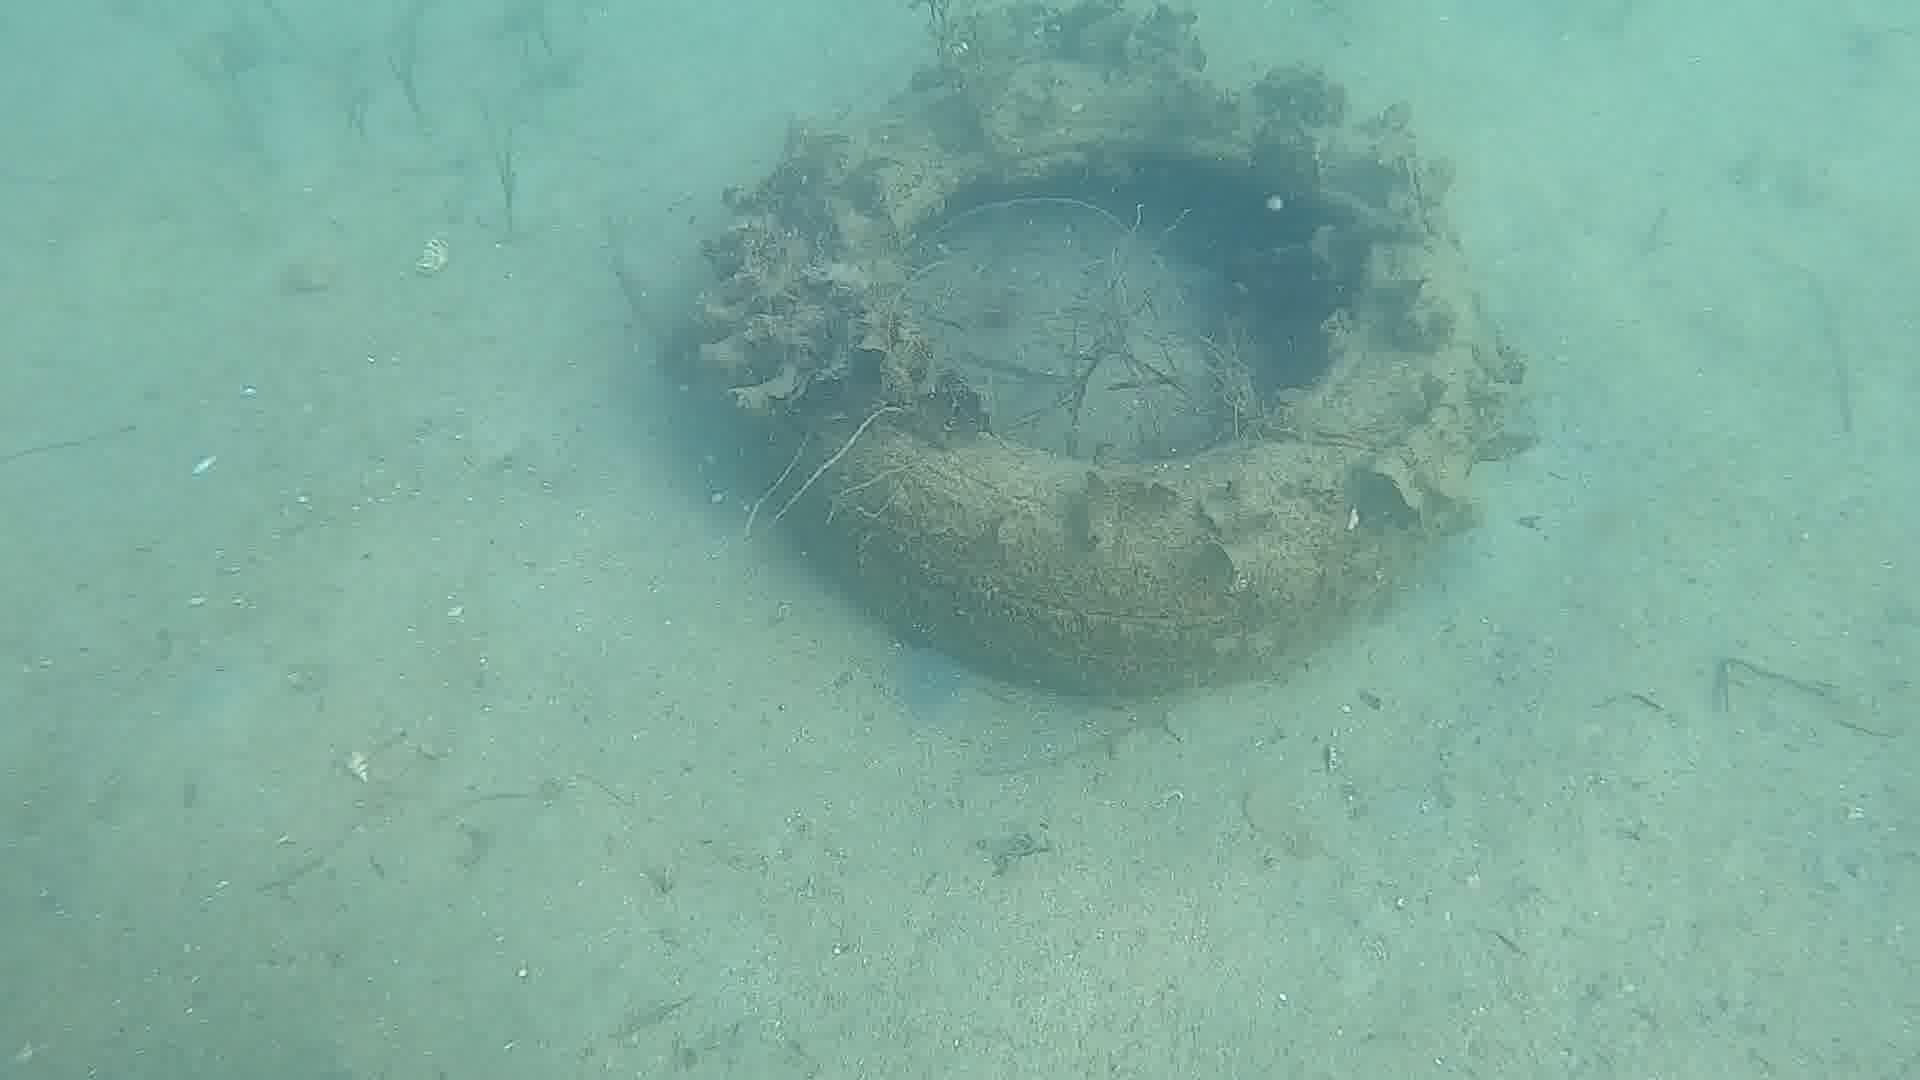tire: (744, 51, 1489, 688)
